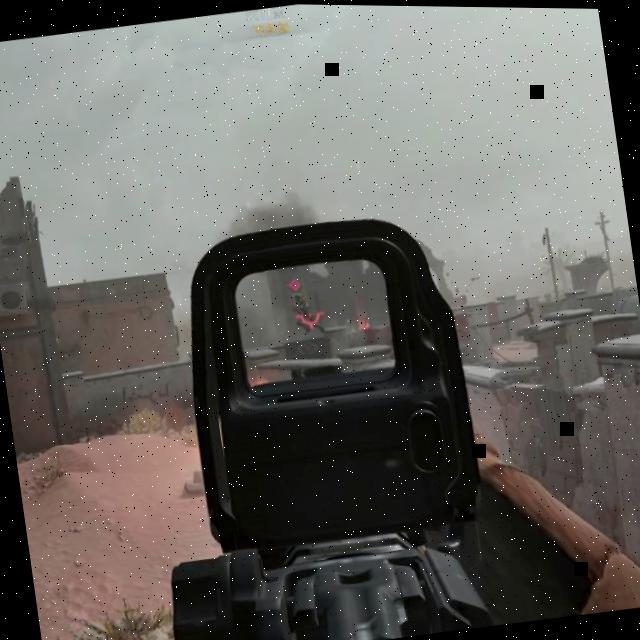MW2_body: (286, 274, 331, 339)
